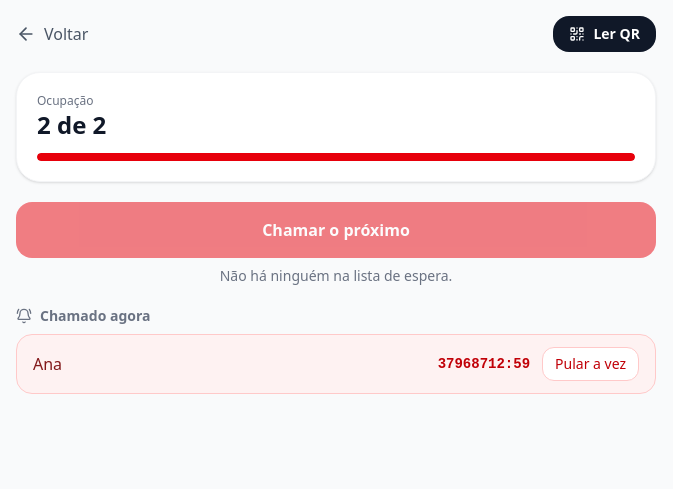
EventAttendeesPage › mostra o motivo quando não dá para pular
The image size is (673, 489).
Click the button with aria-label "pular a vez de ana" at (590,364), box [542,347,639,381]
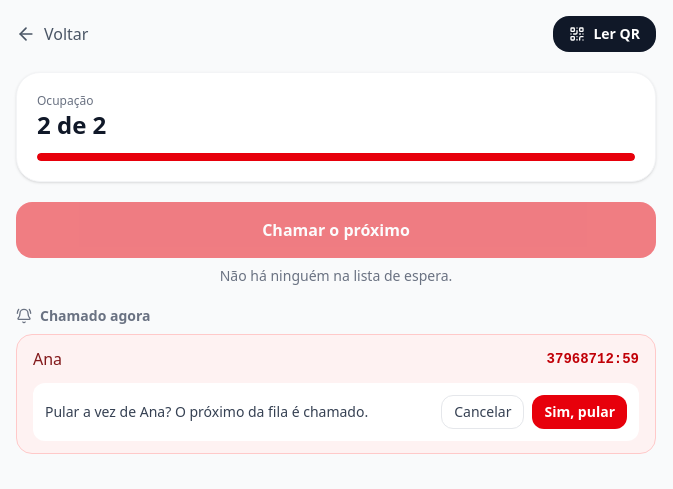
Click the button "Sim, pular" at (580,412), box [532,395,627,429]
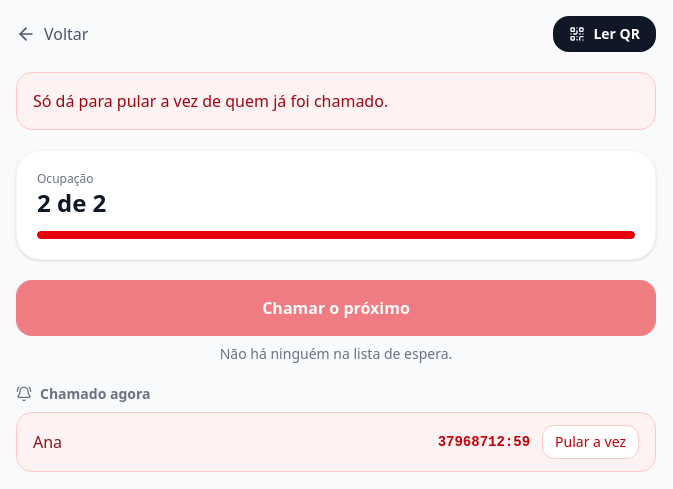
Now the text "Só dá para pular a vez de quem já foi chamado." is shown, box [16,72,656,130]
